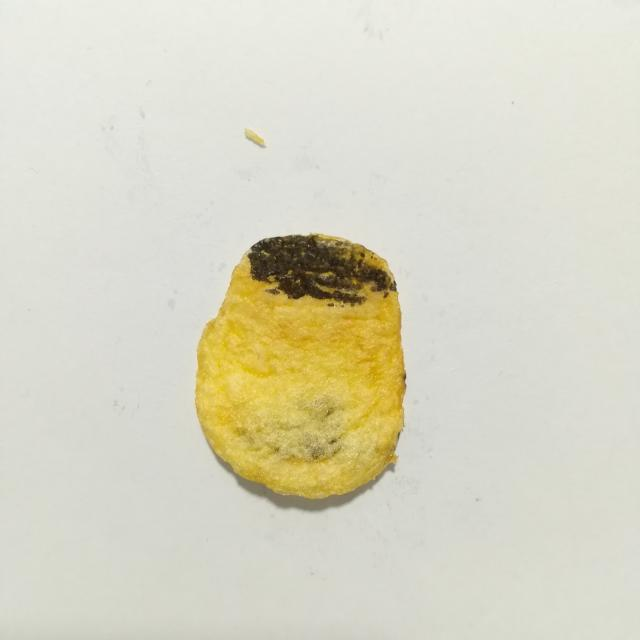chip: (195, 234, 405, 497)
damaged: (248, 234, 396, 305), (327, 303, 334, 306)
semi-damaged: (248, 396, 346, 460)
